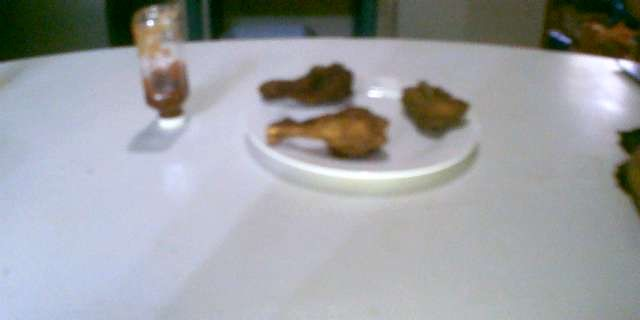chicken: (255, 103, 392, 166), (249, 60, 360, 108), (396, 74, 473, 139)
ketchup_bottle: (120, 1, 196, 135)
